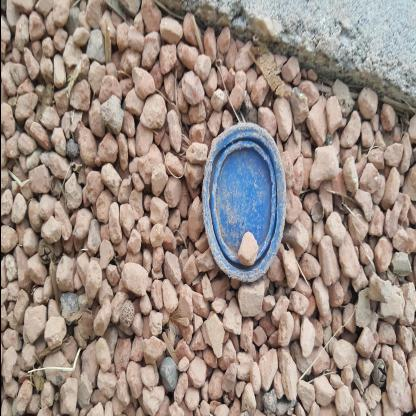plastik: (132, 202, 294, 286)
